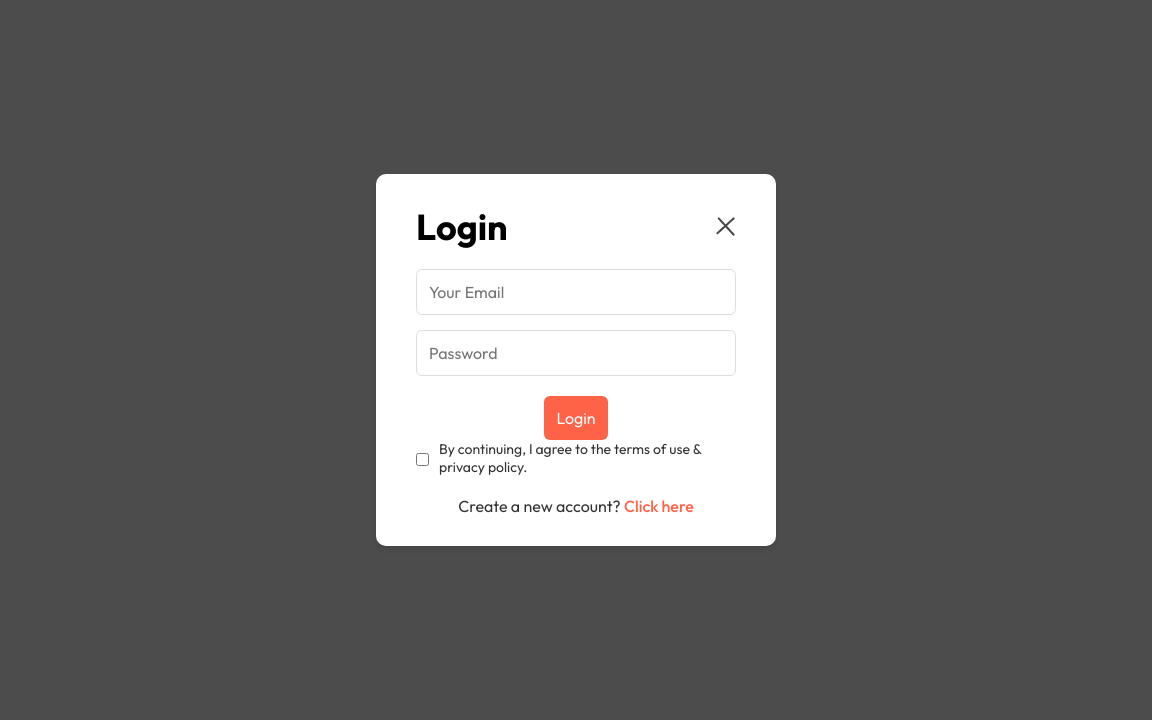
Test: LoginPopup Component › switches to Sign Up form
This screenshot has width=1152, height=720.
Click the text "Click here" at (659, 506), box [624,496,694,516]
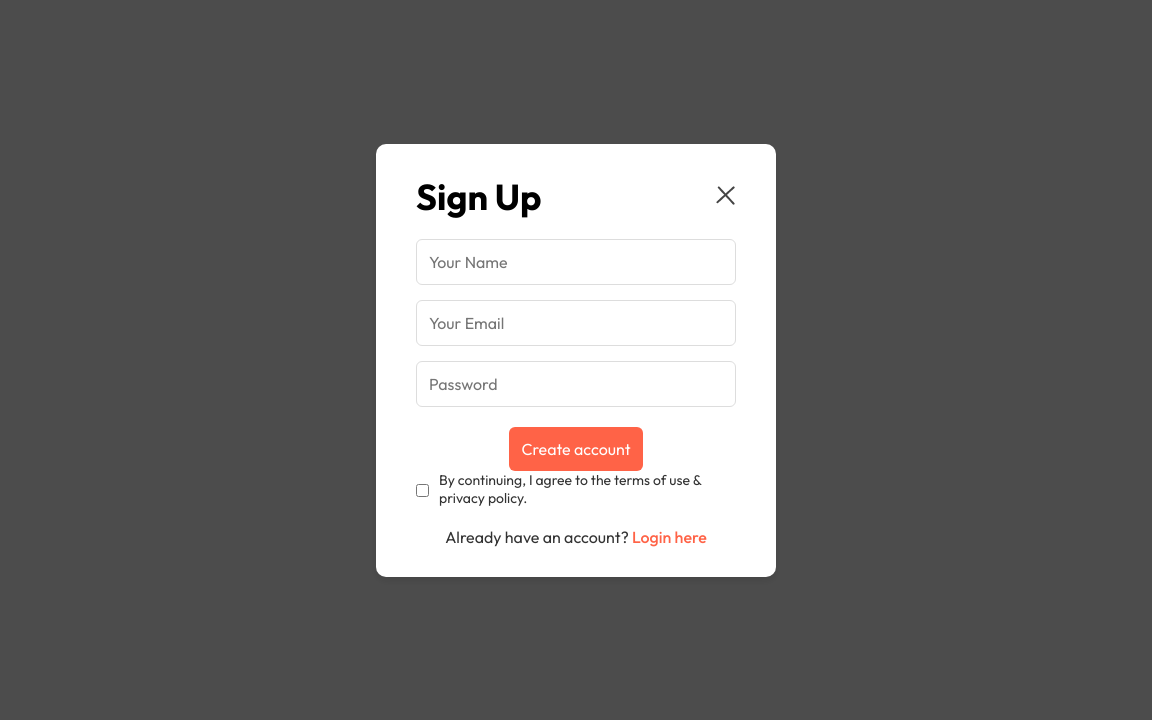
Result: the heading "Sign Up" is shown at [416,174,542,218]
Result: the field with placeholder "Your Name" is shown at [416,238,736,284]
Result: the button "Create account" is shown at [509,426,642,470]
